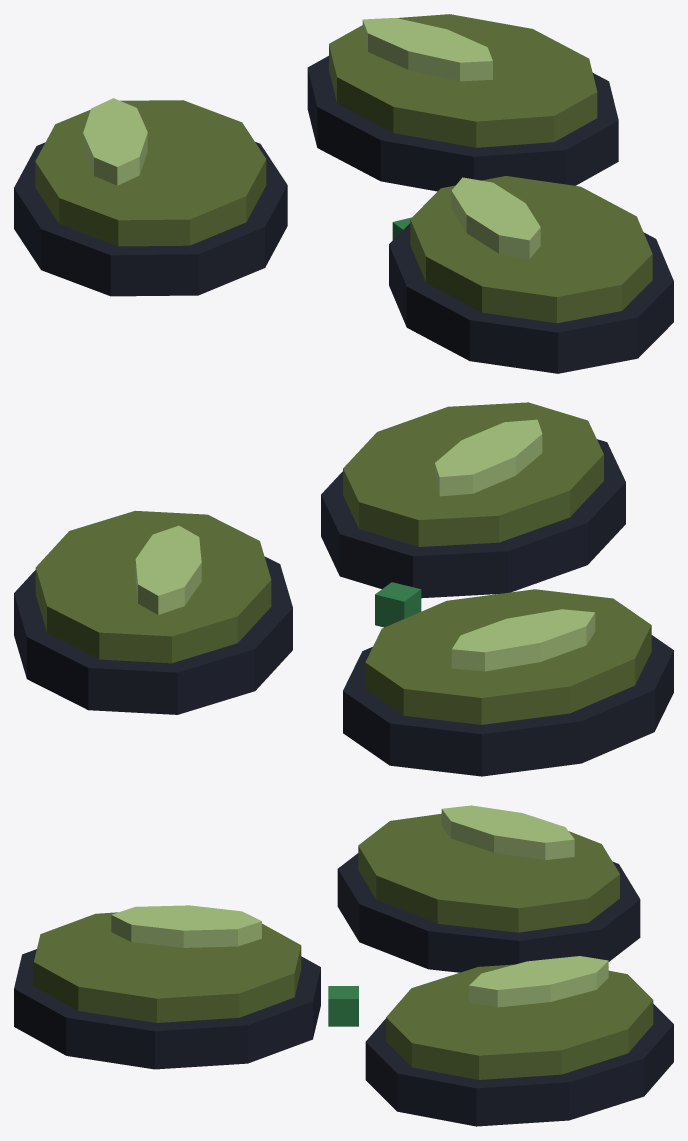
File: aloe_vera_seeds.fbx
3 views of the same model, one above another, from view 1: azimuth 30°, elevation 25°; view 2: azimuth 150°, elevation 25°; view 3: azimuth 270°, elevation 25° (orthographic). The views are drawn at different scales.
Visible parts, largest first — view 1: aloe_vera_seeds__Icon; view 2: aloe_vera_seeds__Icon, aloe_vera_seeds__Origin; view 3: aloe_vera_seeds__Icon, aloe_vera_seeds__Origin.
Part boxes in pixels (box(x1,y1,x2,y2)): aloe_vera_seeds__Icon: box(14, 14, 673, 373); aloe_vera_seeds__Icon: box(14, 402, 673, 776); aloe_vera_seeds__Origin: box(375, 582, 421, 627); aloe_vera_seeds__Icon: box(14, 805, 673, 1126); aloe_vera_seeds__Origin: box(328, 986, 358, 1026).
Bounding box in the file's own units: 0.8075 × 0.145 × 0.8619.
Materials: 1 (1 with a texture image).
